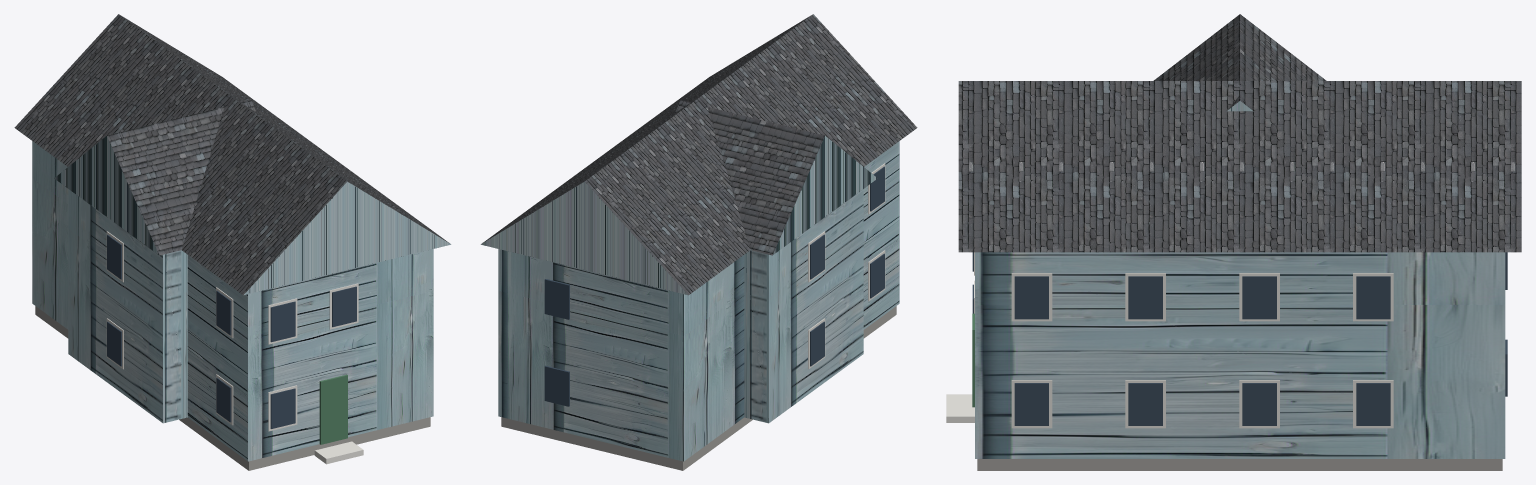
Rendered from asset.glb.
The picture shows the model from 3 angles, left to right: view 1: azimuth 30°, elevation 25°; view 2: azimuth 150°, elevation 25°; view 3: azimuth 270°, elevation 25°; orthographic projection. The views are drawn at different scales.
Parts seen in each view (by area): view 1: body, roof, wing_body, roof_wing, gable_end, wing_gable, foundation, door, win, win.008, win.009, step (+4 smaller); view 2: body, roof, wing_body, roof_wing, gable_end, wing_gable, foundation, win.007, win.016, win.001, win.002, win.011 (+1 smaller); view 3: roof, body, foundation, roof_wing, win.013, win.014, win.015, win.012, win.003, win.004, win.005, win.006 (+5 smaller).
Part boxes in pixels (left/top/right/bottom): body: left=32, top=141, right=433, bottom=461; roof: left=14, top=14, right=449, bottom=295; wing_body: left=68, top=189, right=187, bottom=423; roof_wing: left=107, top=100, right=256, bottom=255; gable_end: left=244, top=181, right=450, bottom=294; wing_gable: left=54, top=136, right=158, bottom=254; foundation: left=35, top=306, right=430, bottom=470; door: left=319, top=374, right=347, bottom=444; win: left=270, top=388, right=295, bottom=428; win.008: left=270, top=301, right=295, bottom=342; win.009: left=332, top=286, right=356, bottom=327; step: left=314, top=441, right=363, bottom=464; body: left=498, top=141, right=899, bottom=461; roof: left=482, top=14, right=917, bottom=295; wing_body: left=744, top=189, right=863, bottom=423; roof_wing: left=675, top=100, right=824, bottom=255; gable_end: left=481, top=181, right=687, bottom=294; wing_gable: left=773, top=136, right=877, bottom=254; foundation: left=501, top=306, right=896, bottom=470; win.007: left=544, top=365, right=569, bottom=406; win.016: left=544, top=279, right=569, bottom=319; win.001: left=870, top=253, right=884, bottom=298; win.002: left=810, top=321, right=824, bottom=366; win.011: left=810, top=234, right=824, bottom=279; roof: left=958, top=81, right=1521, bottom=252; body: left=975, top=252, right=1505, bottom=458; foundation: left=977, top=459, right=1502, bottom=470; roof_wing: left=1153, top=14, right=1326, bottom=110; win.013: left=1128, top=276, right=1162, bottom=319; win.014: left=1242, top=276, right=1276, bottom=319; win.015: left=1356, top=276, right=1390, bottom=319; win.012: left=1014, top=276, right=1048, bottom=319; win.003: left=1014, top=383, right=1048, bottom=425; win.004: left=1128, top=383, right=1162, bottom=425; win.005: left=1242, top=383, right=1276, bottom=425; win.006: left=1356, top=383, right=1390, bottom=425.
Bounding box in the file's own units: 8.04 × 9.1 × 14.14.
6 materials, 2 textured.
